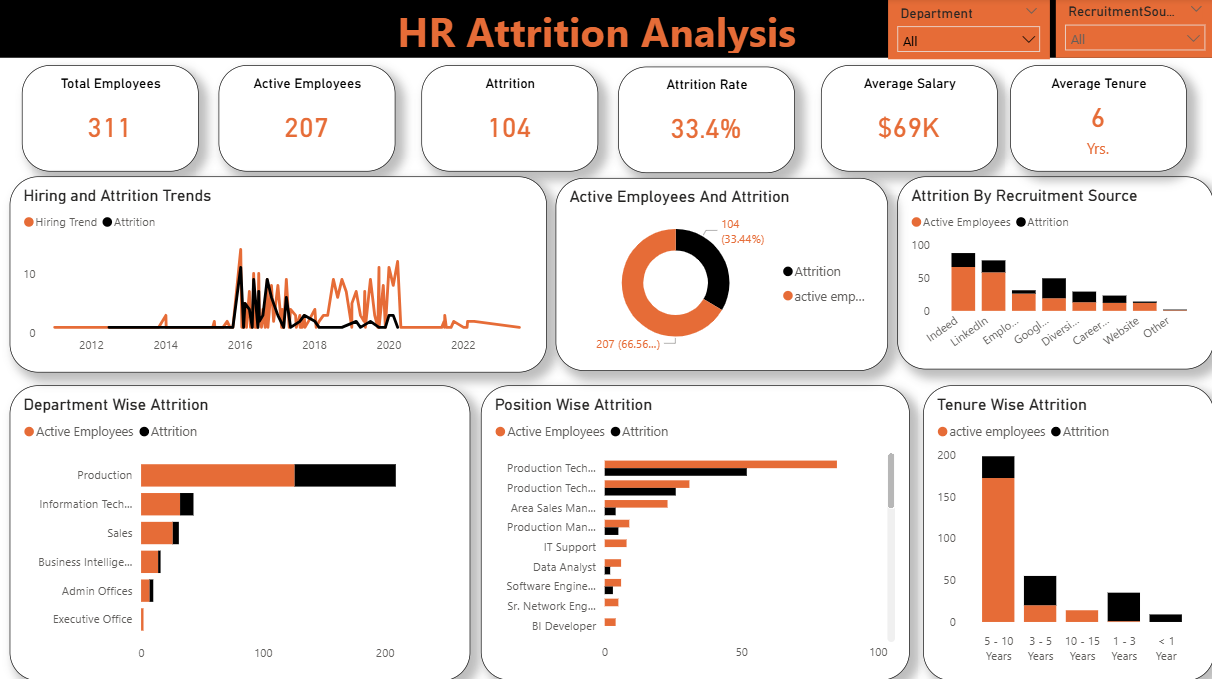

Layout of this report page (visuals, bound fields, positions):
{"tool":"powerbi","page":{"name":"Page 1","canvas":[1280,720],"ordinal":0},"visuals":[{"type":"card","title":"Total Employees","fields":{"Values":["employees.total employees"]},"box":[24.1,70.7,186,112],"z":0},{"type":"card","title":"Attrition ","fields":{"Values":["employees.Attrition"]},"box":[445,70.7,186,112],"z":1000},{"type":"card","title":"Active Employees","fields":{"Values":["employees.active employees"]},"box":[231.3,70.7,186,112],"z":2000},{"type":"card","title":"Attrition Rate","fields":{"Values":["employees.Attrition Rate"]},"box":[652.3,72.3,186,112],"z":3000},{"type":"card","title":"Average Salary","fields":{"Values":["Avg(employees.Salary)"]},"box":[865.9,70.7,186,112],"z":4000},{"type":"barChart","title":" Department Wise Attrition","fields":{"Category":["positions.Department"],"Y":["employees.active employees","employees.Attrition"]},"box":[11.2,408.1,485,311.7],"z":5000},{"type":"clusteredBarChart","title":"Position Wise Attrition","fields":{"Category":["positions.Position"],"Y":["employees.active employees","employees.Attrition"]},"box":[507.9,408.6,451.8,310.8],"z":6000},{"type":"lineChart","title":"Hiring and Attrition Trends","fields":{"Category":["employees.DateOfHire"],"Y":["employees.Hiring Trend","employees.Attrition"]},"box":[12,188,565,203],"z":7000},{"type":"columnChart","title":"Attrition By Recruitment Source","fields":{"Category":["employees.RecruitmentSource"],"Y":["employees.active employees","employees.Attrition"]},"box":[946,188,334,203],"z":8000},{"type":"donutChart","title":"Active Employees And Attrition","fields":{"Y":["employees.Attrition","employees.active employees"]},"box":[586,190,350,203],"z":9000},{"type":"textbox","box":[0,0,1280.4,62.7],"z":10000},{"type":"card","title":"Average Tenure","fields":{"Values":["employees.Avg tenure"]},"box":[1065.2,70.7,186,112],"z":11000},{"type":"columnChart","title":"Tenure Wise Attrition","fields":{"Category":["employees.Tenure Bucket"],"Y":["employees.active employees","employees.Attrition"]},"box":[973.6,408.1,307,311.7],"z":12000},{"type":"slicer","fields":{"Values":["positions.Department"]},"box":[936.6,1.6,170.3,62.7],"z":13000},{"type":"slicer","fields":{"Values":["employees.RecruitmentSource"]},"box":[1113.4,0,167.1,62.7],"z":14000}]}

Visuals, with their boxes in screenshot pixels (x1, y1, x2, y2), scaled from the page's 1280x720 canvas onto the 1212x679 screenshot:
"Total Employees" card: BBox(23, 67, 199, 172)
"Attrition " card: BBox(421, 67, 597, 172)
"Active Employees" card: BBox(219, 67, 395, 172)
"Attrition Rate" card: BBox(618, 68, 794, 174)
"Average Salary" card: BBox(820, 67, 996, 172)
" Department Wise Attrition" barChart: BBox(11, 385, 470, 678)
"Position Wise Attrition" clusteredBarChart: BBox(481, 385, 909, 678)
"Hiring and Attrition Trends" lineChart: BBox(11, 177, 546, 369)
"Attrition By Recruitment Source" columnChart: BBox(896, 177, 1211, 369)
"Active Employees And Attrition" donutChart: BBox(555, 179, 886, 371)
textbox: BBox(0, 0, 1211, 59)
"Average Tenure" card: BBox(1009, 67, 1185, 172)
"Tenure Wise Attrition" columnChart: BBox(922, 385, 1211, 678)
slicer - positions.Department: BBox(887, 2, 1048, 61)
slicer - employees.RecruitmentSource: BBox(1054, 0, 1211, 59)
